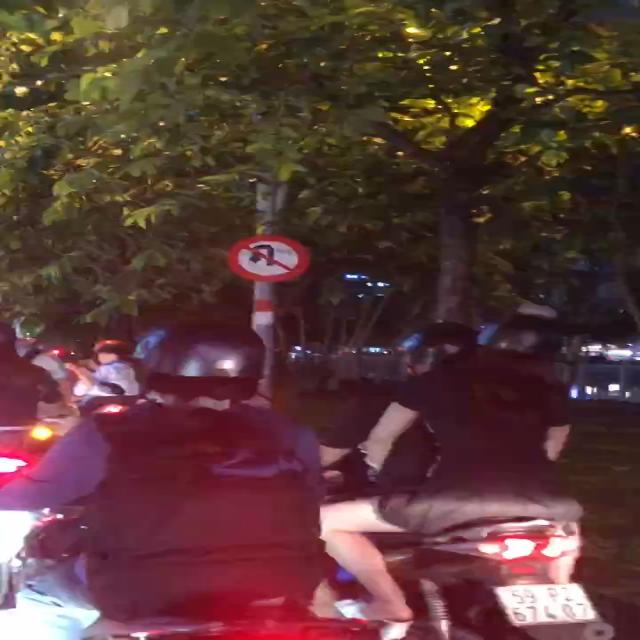Bien bao cam quay dau xe: (224, 228, 314, 284)
